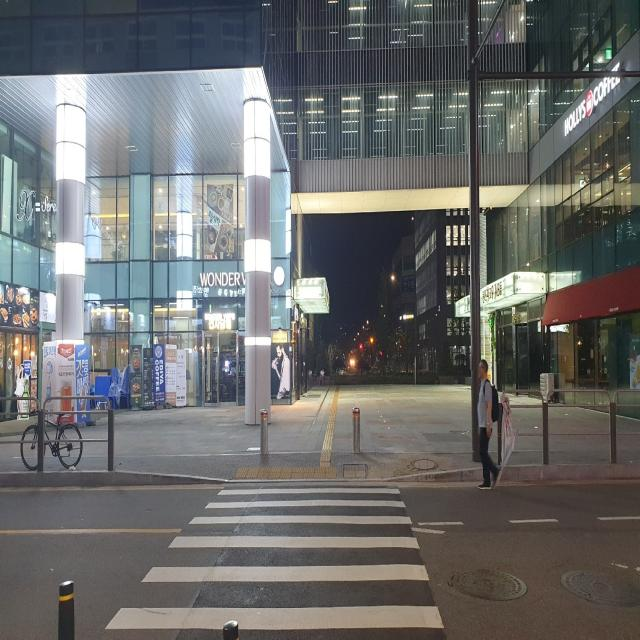횡단보도: (104, 484, 447, 632)
